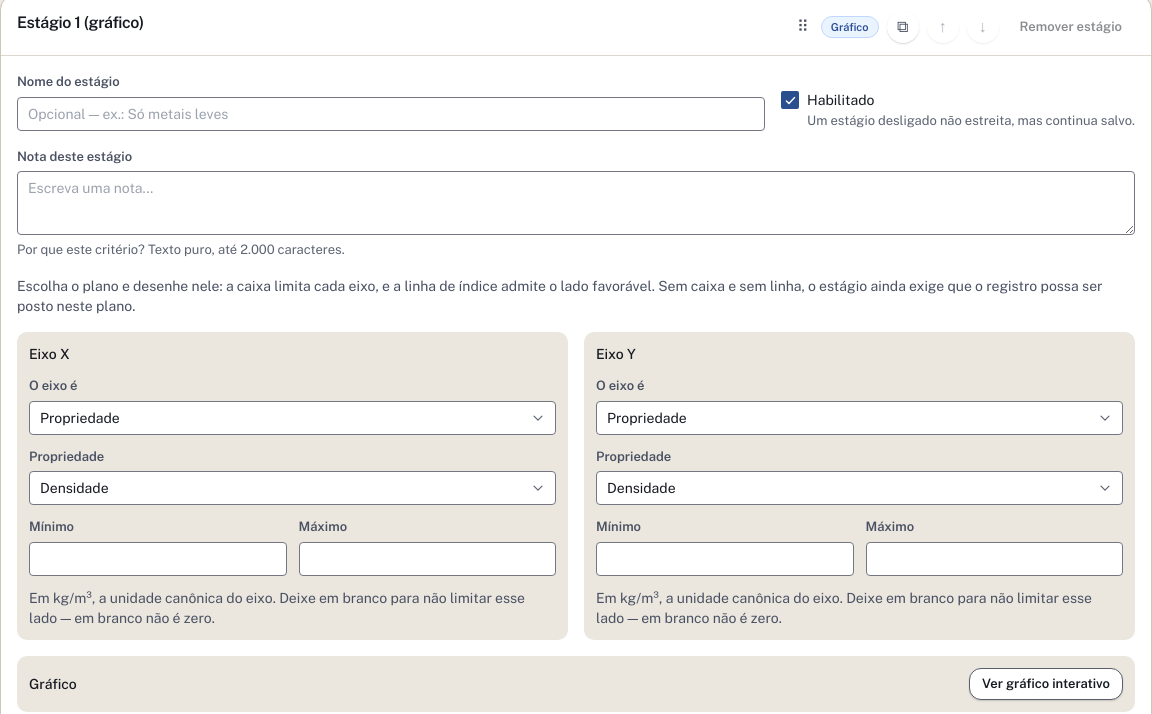
Test case: StageList with a chart stage › oferece alternar o mapa interativo no estágio de gráfico
This screenshot has width=1152, height=714.
expect the button "Ver gráfico interativo" is shown: met, box [982, 674, 1110, 693]
Click the button "Ver gráfico interativo" at (1046, 684), box [969, 668, 1123, 700]
(page scrolled)
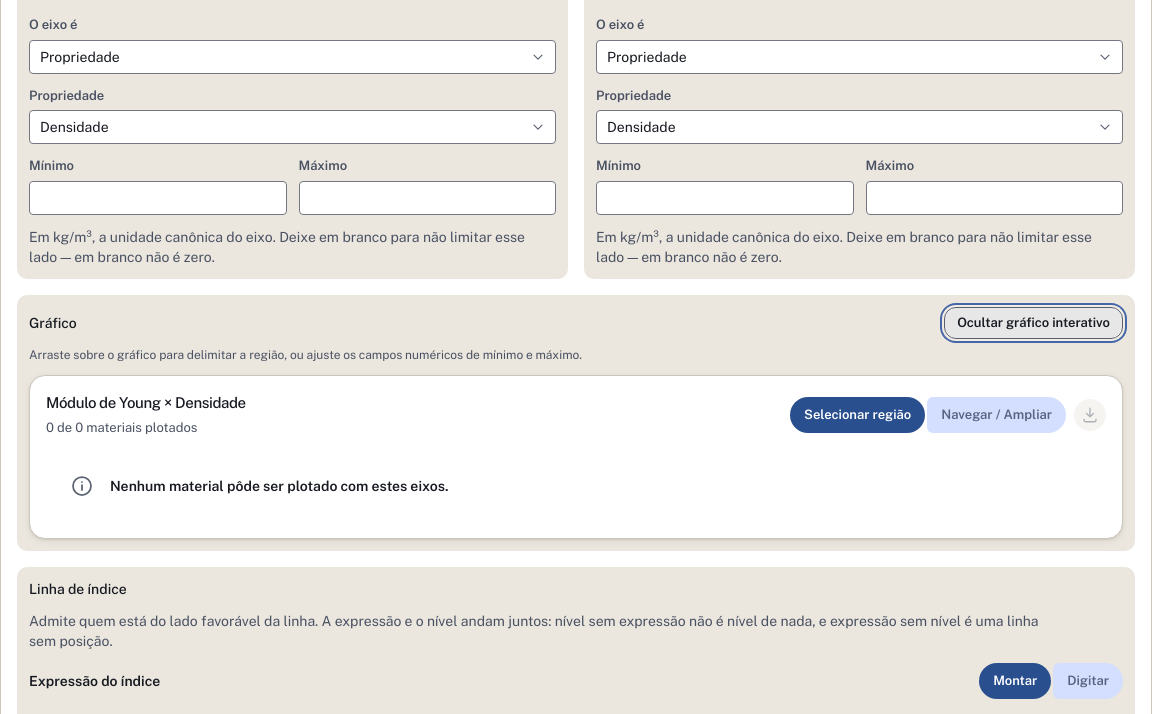
expect the button "Ocultar gráfico interativo" is shown: met, box [957, 313, 1110, 332]
expect the text "Arraste sobre o gráfico para delimitar a região, ou ajuste os campos numéricos de mínimo e máximo." is shown: met, box [29, 348, 582, 362]
